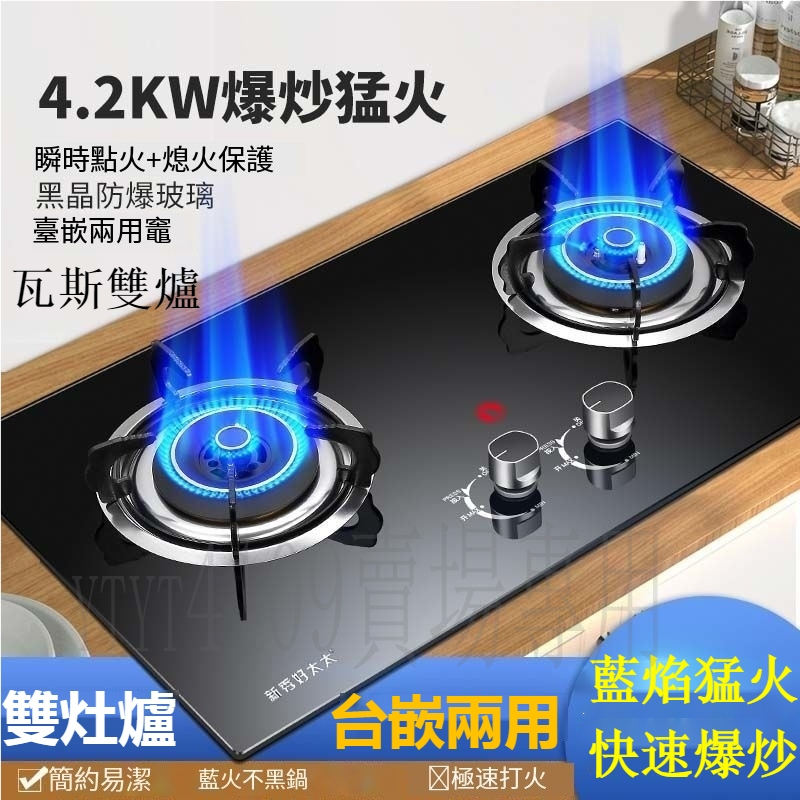gasoven: (5, 117, 798, 762)
